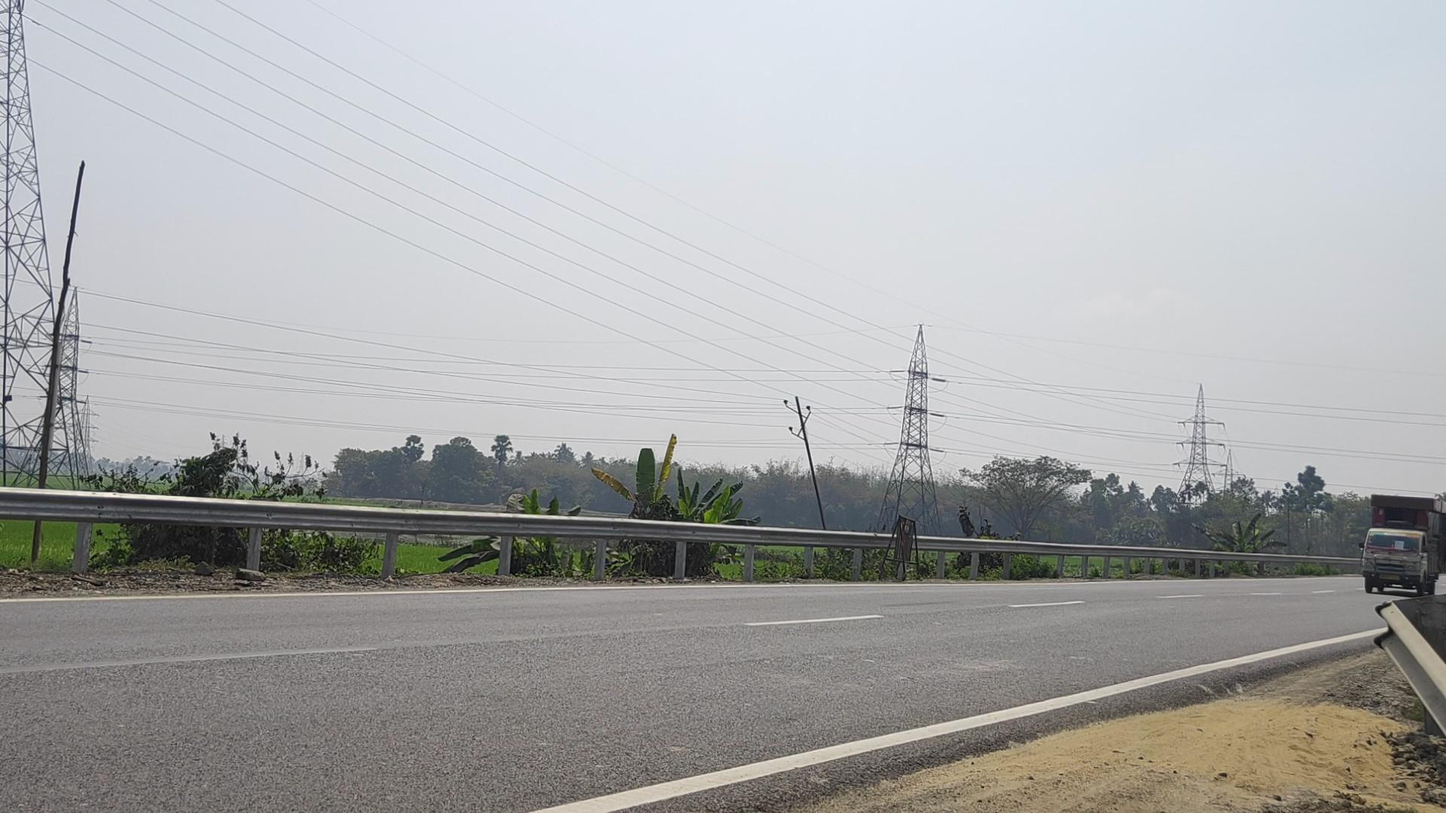van: (1359, 495, 1446, 597)
